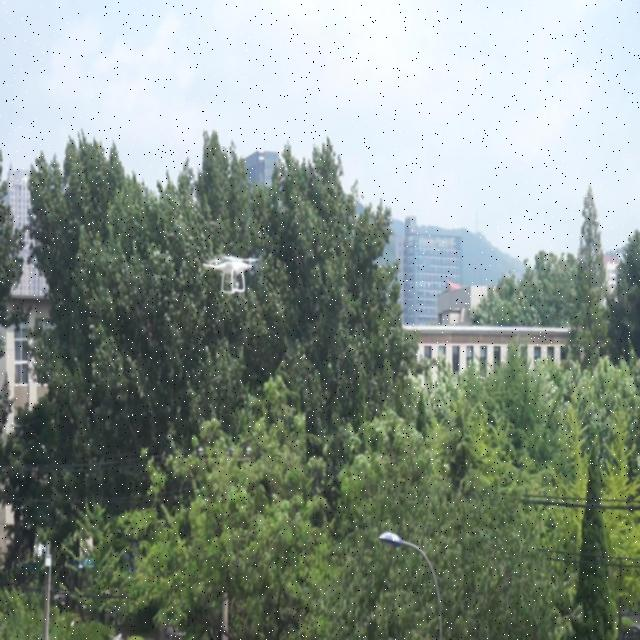UAV: (202, 256, 259, 294)
